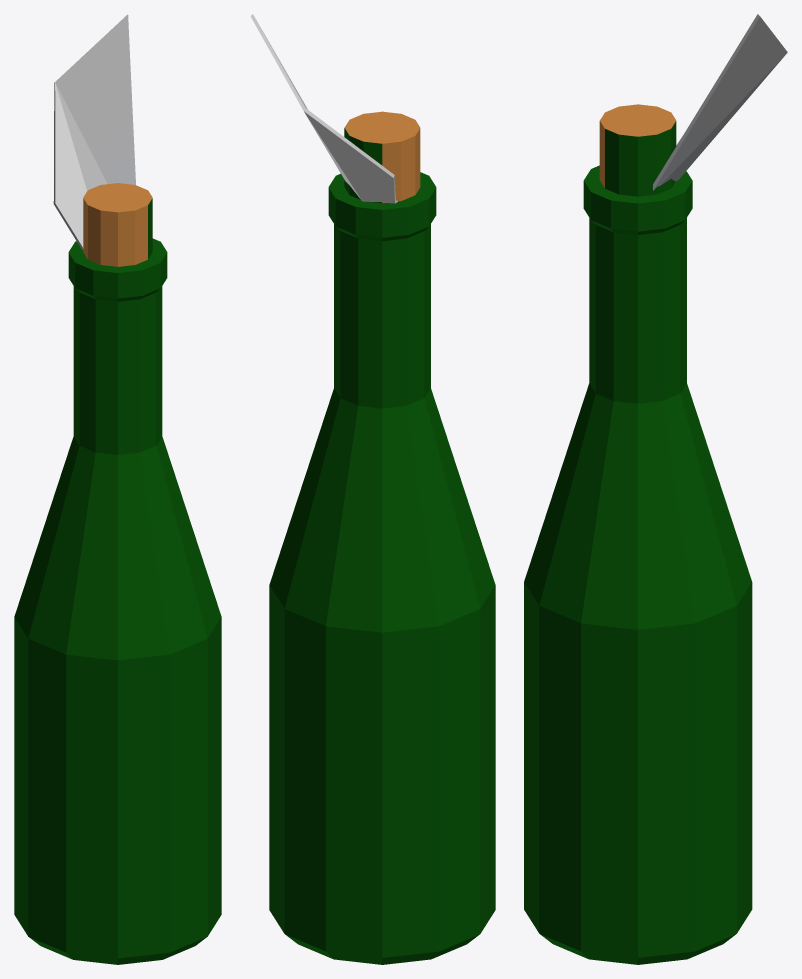
The model's file is Incendiary3.FBX.
The picture shows the model from 3 angles, left to right: view 1: azimuth 30°, elevation 25°; view 2: azimuth 150°, elevation 25°; view 3: azimuth 270°, elevation 25°; orthographic projection. The views are drawn at different scales.
Visible parts, largest first — view 1: Cylinder014, Plane001; view 2: Cylinder014, Plane001; view 3: Cylinder014, Plane001.
Part boxes in pixels (x1,y1,x2,y2): Cylinder014: [14, 183, 221, 964]; Plane001: [53, 14, 135, 250]; Cylinder014: [269, 111, 495, 964]; Plane001: [250, 14, 397, 203]; Cylinder014: [524, 104, 752, 964]; Plane001: [653, 14, 787, 190].
Bounding box in the file's own units: 0.1341 × 0.6124 × 0.1551.
